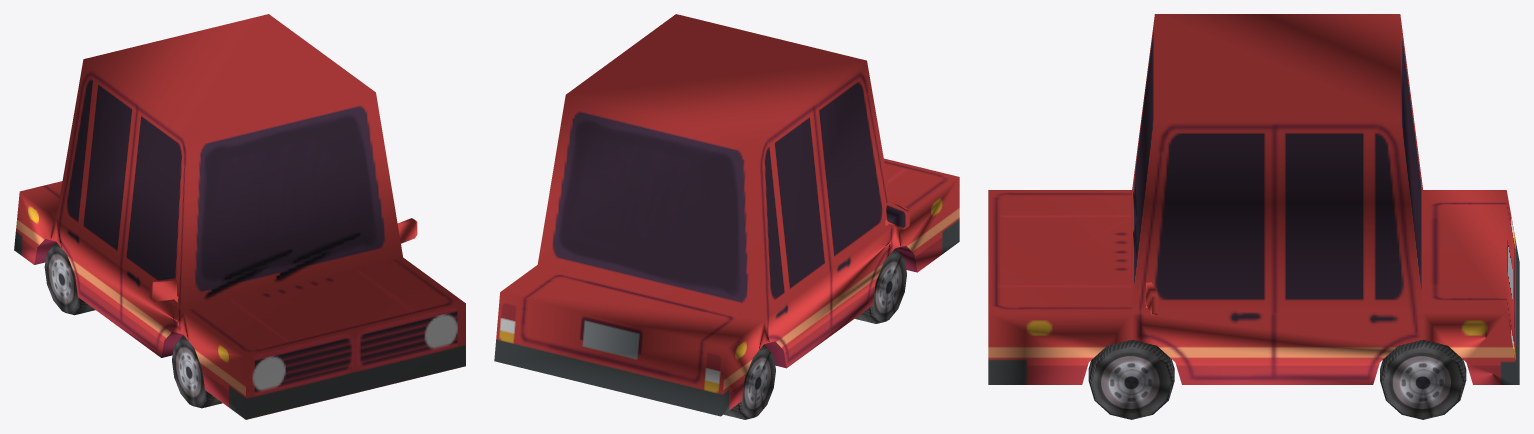
Rendered from low-poly-car01.gltf.
The picture shows the model from 3 angles, left to right: view 1: azimuth 30°, elevation 25°; view 2: azimuth 150°, elevation 25°; view 3: azimuth 270°, elevation 25°; orthographic projection. The views are drawn at different scales.
Visible parts, largest first — view 1: Low_Poly_Vehicles_car01; view 2: Low_Poly_Vehicles_car01; view 3: Low_Poly_Vehicles_car01.
Boxes of the visible parts, left/top/right/bottom form: Low_Poly_Vehicles_car01: left=14, top=14, right=465, bottom=419; Low_Poly_Vehicles_car01: left=494, top=14, right=959, bottom=419; Low_Poly_Vehicles_car01: left=988, top=14, right=1519, bottom=419.
Bounding box in the file's own units: 24.16 × 22.5 × 36.51.
Materials: 1 (1 with a texture image).
